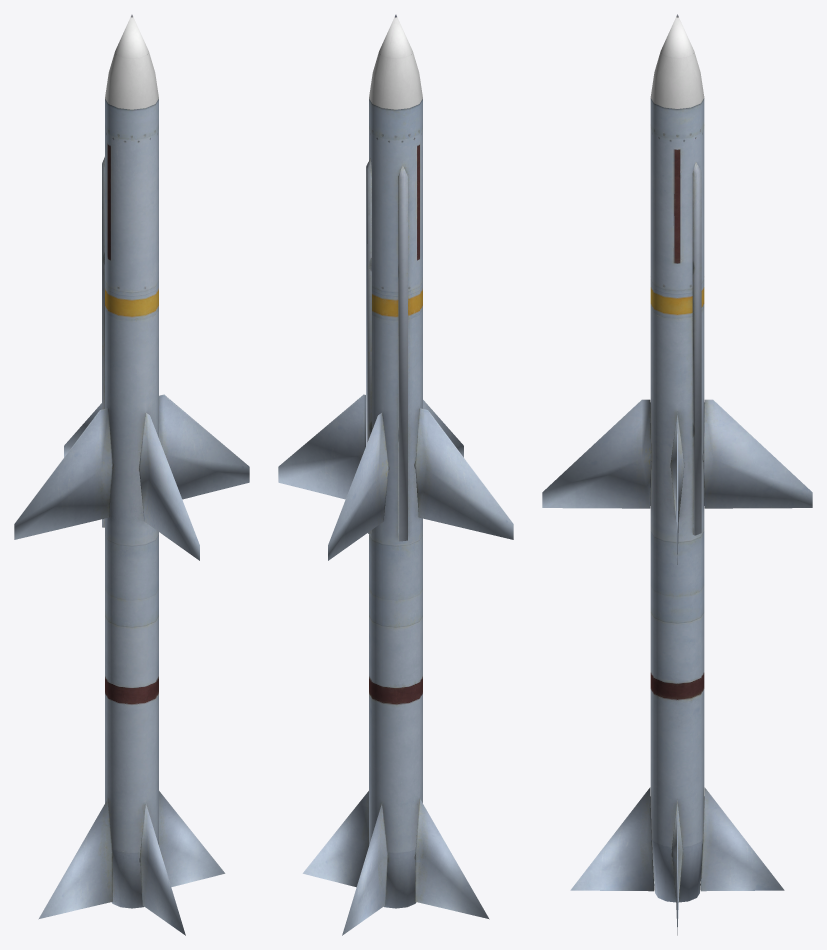
Rendered from aim-7-sparrow.glb.
The picture shows the model from 3 angles, left to right: view 1: azimuth 30°, elevation 25°; view 2: azimuth 150°, elevation 25°; view 3: azimuth 270°, elevation 25°; orthographic projection.
Visible parts, largest first — view 1: AIM-7 Sparrow; view 2: AIM-7 Sparrow; view 3: AIM-7 Sparrow.
Boxes of the visible parts, <box> form: AIM-7 Sparrow: <box>14,14,249,935</box>; AIM-7 Sparrow: <box>278,14,513,935</box>; AIM-7 Sparrow: <box>542,14,812,935</box>.
Size of the model in its own units: 0.6685 by 2.4 by 0.6685.
1 material, 1 textured.
